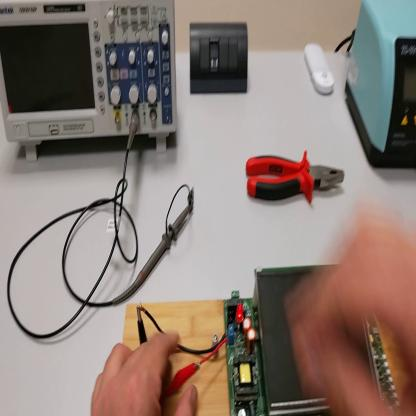hand: (287, 205, 416, 416), (92, 335, 198, 415)
low voltage board: (199, 245, 401, 414)
oscilloscope: (2, 3, 179, 157)
oscilloscope probe tip: (114, 203, 190, 308)
pliers: (246, 152, 349, 202)
welder station: (345, 3, 416, 172)
working area: (123, 298, 410, 416)
